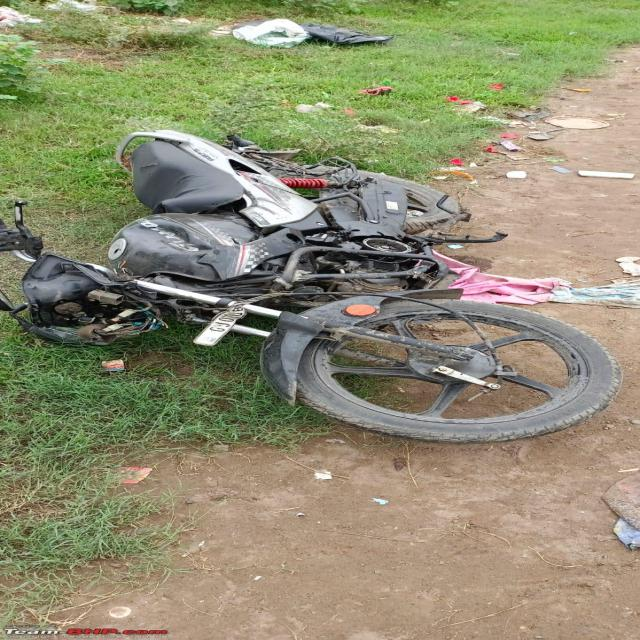accident: (0, 130, 620, 442)
